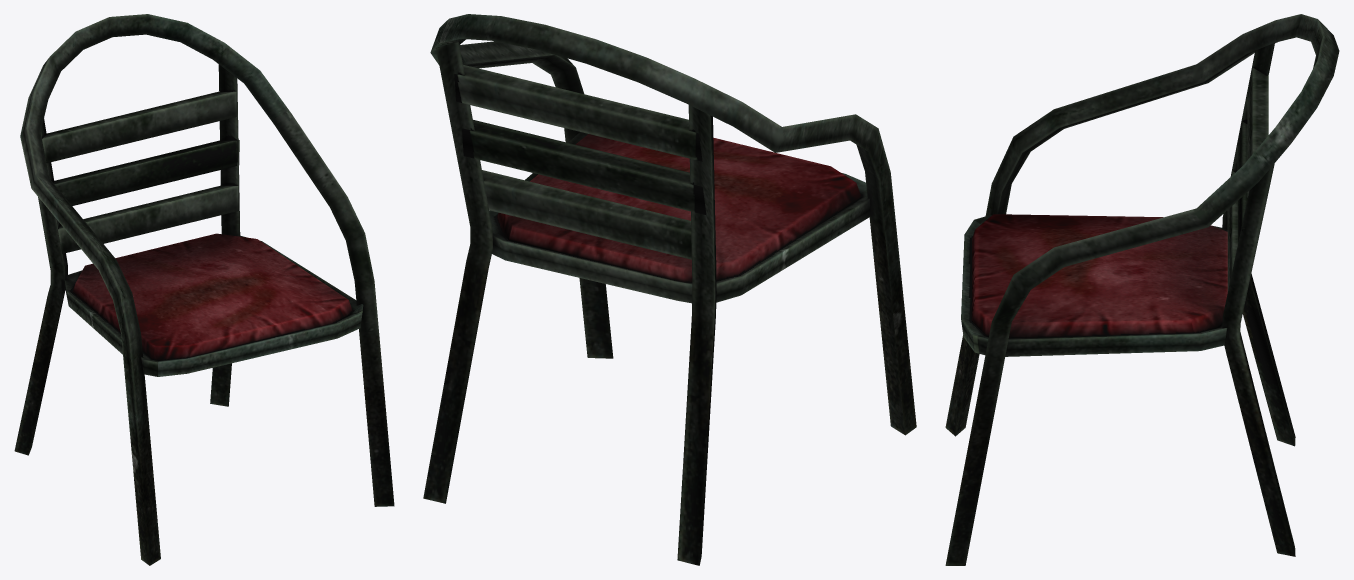
The model's file is chair7.fbx.
3 views of the same model, side by side, from view 1: azimuth 30°, elevation 25°; view 2: azimuth 150°, elevation 25°; view 3: azimuth 270°, elevation 25° (orthographic). The views are drawn at different scales.
Visible parts, largest first — view 1: chair7; view 2: chair7; view 3: chair7.
Boxes of the visible parts, bbox=[...] form: chair7: bbox=[14, 14, 394, 565]; chair7: bbox=[423, 14, 916, 565]; chair7: bbox=[945, 14, 1339, 565].
Bounding box in the file's own units: 34.54 × 51.66 × 39.9.
